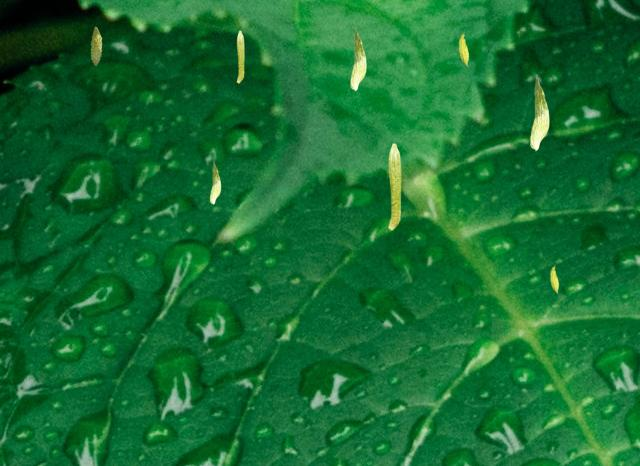ampalaya: (529, 74, 549, 151), (388, 143, 401, 230), (350, 26, 366, 91), (209, 159, 221, 205), (90, 26, 102, 66), (236, 30, 244, 83), (458, 31, 469, 67), (549, 264, 559, 294)
